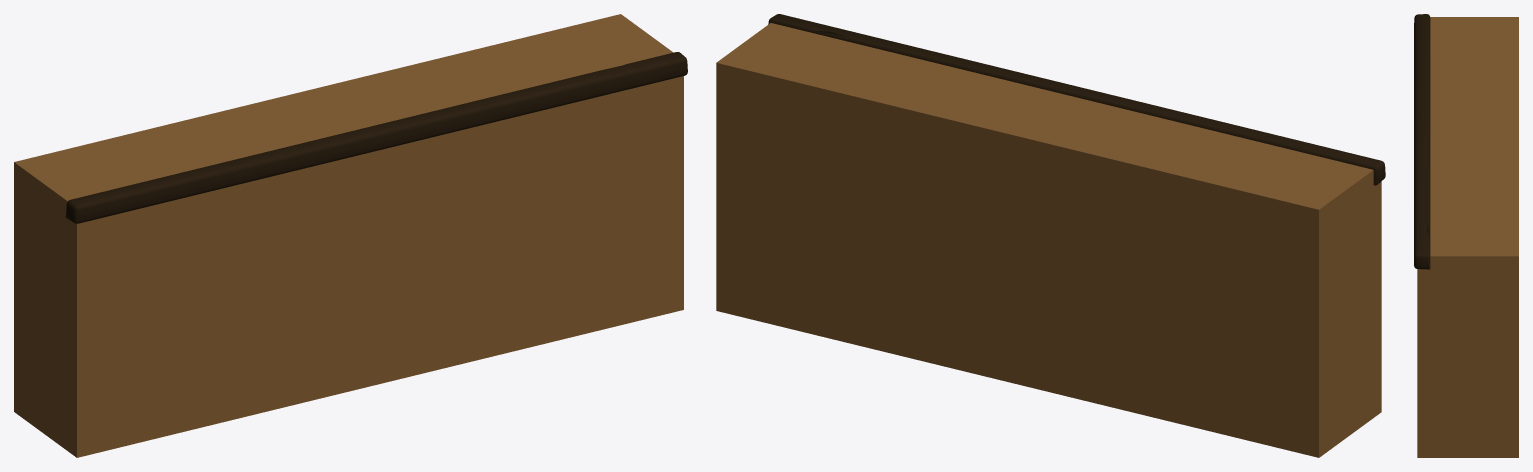
File: BARRA.fbx
The picture shows the model from 3 angles, left to right: view 1: azimuth 30°, elevation 25°; view 2: azimuth 150°, elevation 25°; view 3: azimuth 270°, elevation 25°; orthographic projection. The views are drawn at different scales.
Parts seen in each view (by area): view 1: Cube.001; view 2: Cube.001; view 3: Cube.001.
Part boxes in pixels (x1,y1,x2,y2): Cube.001: (14, 14, 687, 457); Cube.001: (716, 14, 1385, 457); Cube.001: (1414, 14, 1518, 457).
Bounding box in the file's own units: 155 × 61.03 × 28.37.
